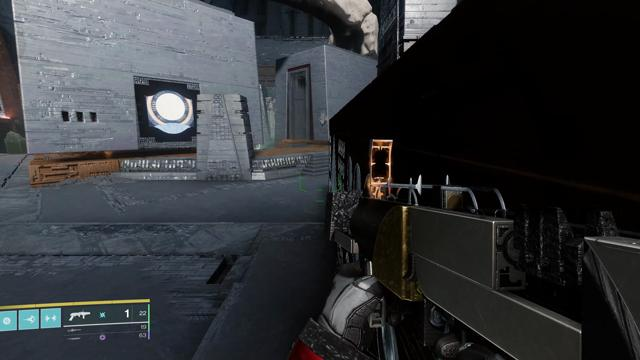traveler: (145, 90, 194, 134)
